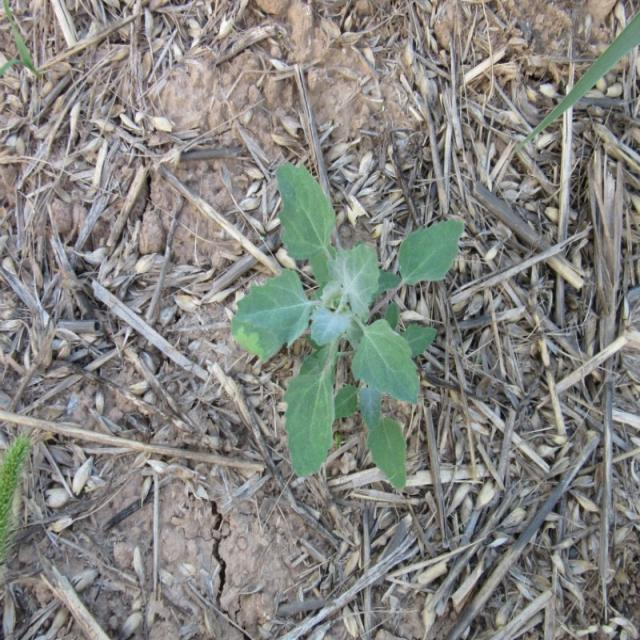ca: (230, 160, 461, 491)
